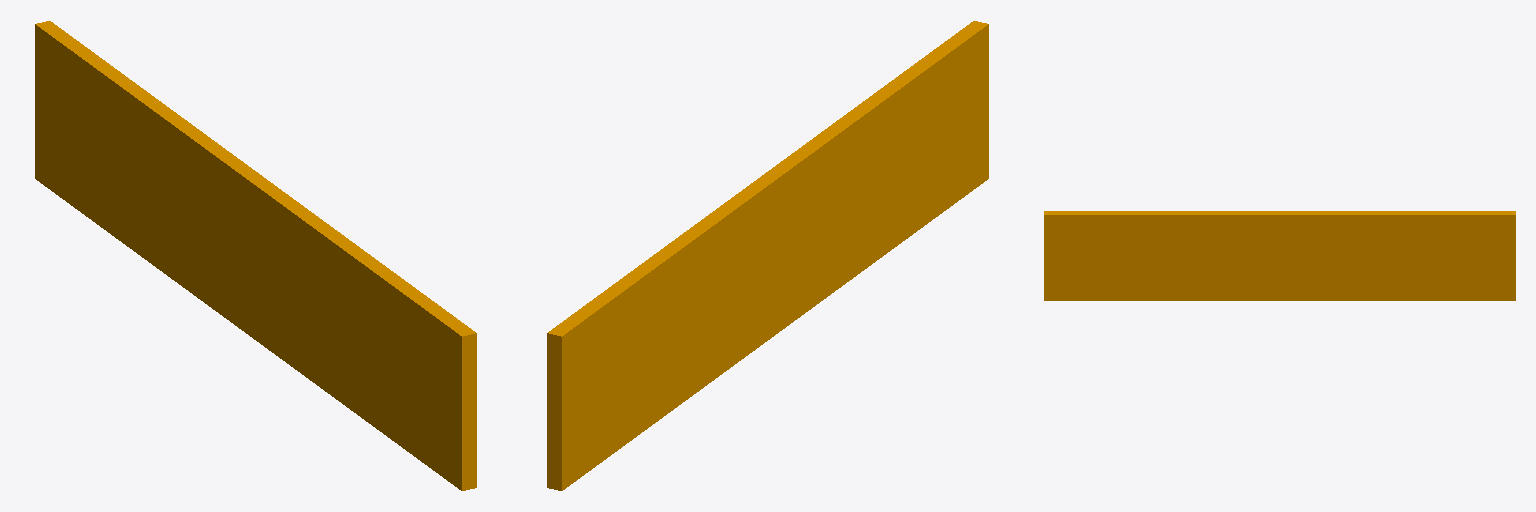
robot.urdf — urdf_wall_10:
<?xml version="0.0" ?>
<robot name="urdf_wall_10">

  <link name="wall">
    <inertial>
      <mass value="1"/>
      <inertia ixx="1" ixy="0" ixz="0" iyy="1" iyz="0" izz="1"/>
    </inertial>
    <visual>
      <geometry>
        <box size="0.2 10 2"/>
      </geometry>
      <origin xyz="12 0 1" rpy="0 0 0"/>
    </visual>
    <collision>
      <geometry>
        <box size="0.2 10 2"/>
      </geometry>
      <origin xyz="12 0 1" rpy="0 0 0"/>

    </collision>
  </link>


</robot>

--- What the picture shows (computed from the rendered views, not written in the file) ---
Views: 3 orthographic renders of the robot side by side, from view 1: azimuth 30°, elevation 25°; view 2: azimuth 150°, elevation 25°; view 3: azimuth 270°, elevation 25°.
Robot: urdf_wall_10 — 1 links, 0 joints (none); root link wall; default pose: all joints at 0.
Visible links, largest first — view 1: wall; view 2: wall; view 3: wall.
Link boxes in pixels (x1=…): wall: x1=35, y1=21, x2=476, y2=490; wall: x1=547, y1=21, x2=988, y2=490; wall: x1=1044, y1=211, x2=1515, y2=300.
Size in the robot's own frame: 0.2 by 10 by 2 metres.
Geometry: primitives only (box / cylinder / sphere), no mesh files.